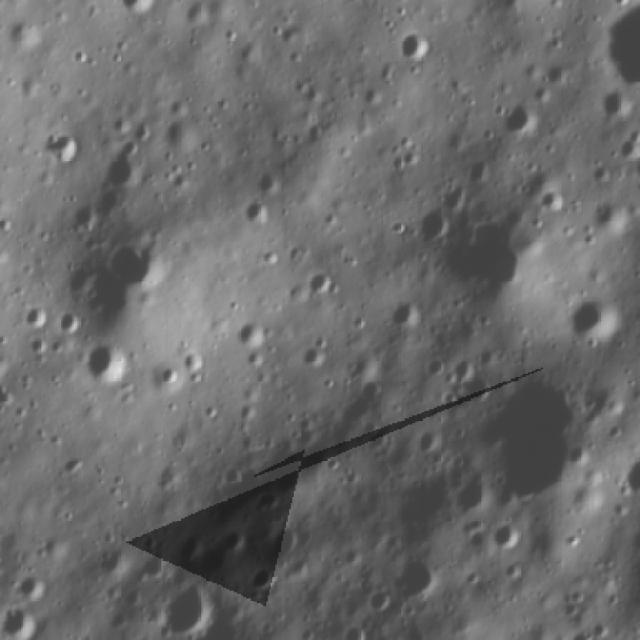crater: (488, 373, 584, 507), (55, 223, 170, 325), (432, 196, 540, 304), (149, 574, 214, 640), (598, 0, 640, 102), (567, 290, 619, 352), (100, 138, 152, 192), (77, 339, 129, 390), (393, 553, 445, 599), (38, 133, 88, 176), (460, 348, 497, 406), (409, 196, 448, 249), (304, 263, 344, 309), (392, 25, 438, 64), (229, 315, 271, 357), (497, 93, 538, 136), (591, 194, 634, 234), (384, 296, 427, 336), (590, 85, 627, 130), (485, 516, 526, 553), (612, 451, 640, 504), (0, 604, 41, 640), (268, 518, 306, 556), (8, 567, 49, 602), (241, 558, 279, 593), (359, 582, 393, 618), (104, 0, 156, 22), (229, 196, 263, 229), (245, 162, 282, 192), (562, 617, 608, 640), (337, 620, 372, 640), (326, 0, 356, 8)
